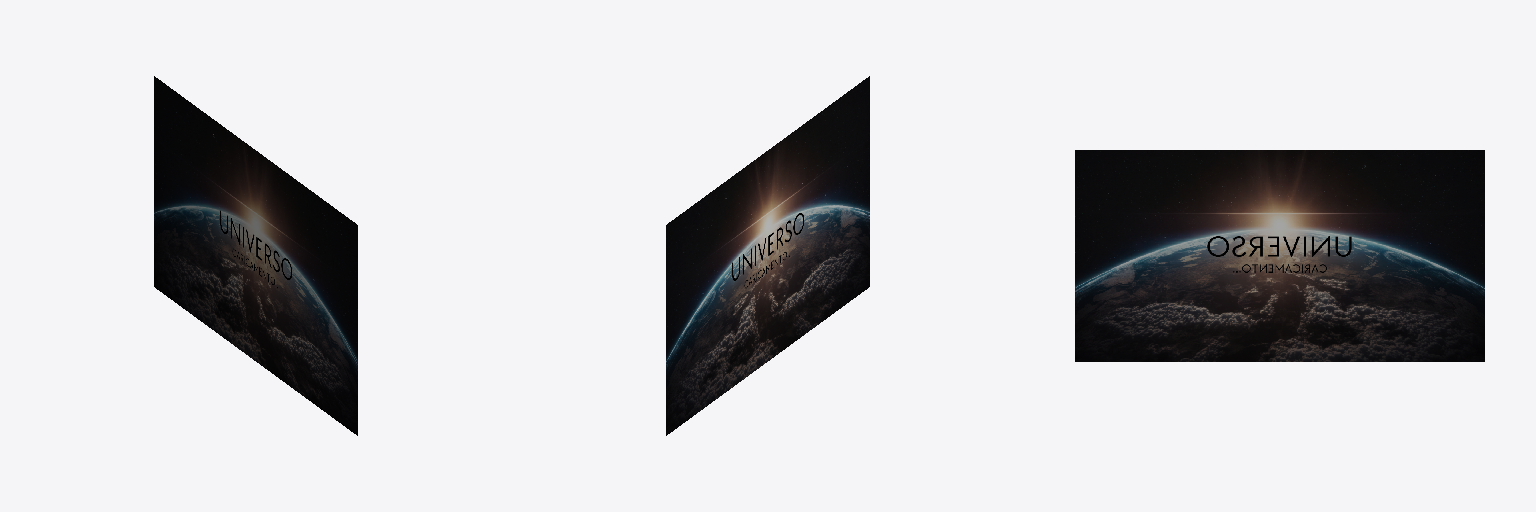
3 renders of one model, left to right at view 1: azimuth 30°, elevation 25°; view 2: azimuth 150°, elevation 25°; view 3: azimuth 270°, elevation 25°, orthographic.
Parts seen in each view (by area): view 1: Piano; view 2: Piano; view 3: Piano.
Part boxes in pixels (x1,y1,x2,y2): Piano: (154,76,357,435); Piano: (666,76,869,435); Piano: (1075,150,1484,361).
Size of the model in its own units: 0 by 2 by 3.51.
Materials: 1 (1 with a texture image).